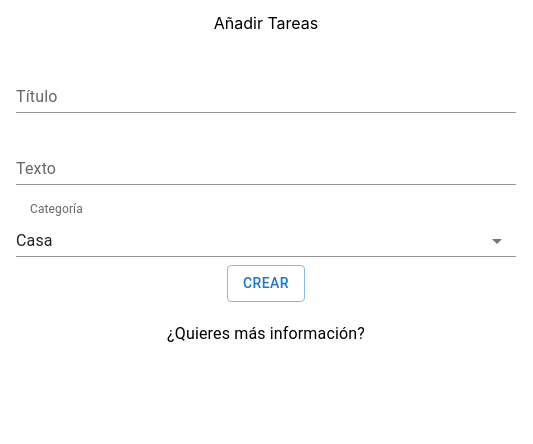
Test: Prueba sobre la app completa › si la tarea se genera correctamente
In the field labelled "Título": (266, 97) [16, 81, 516, 113], type "Perro"
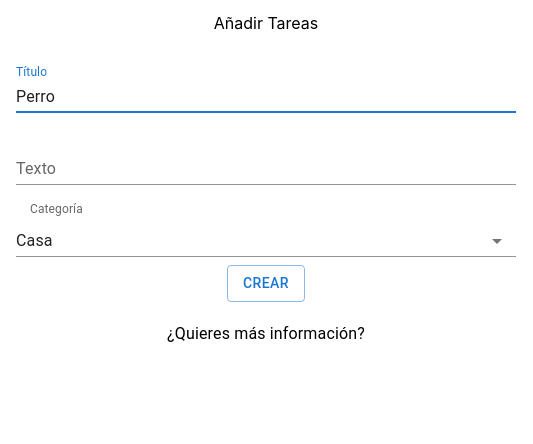
In the field labelled "Texto": (266, 169) [16, 153, 516, 185], type "Sacar al perro por la tarde"
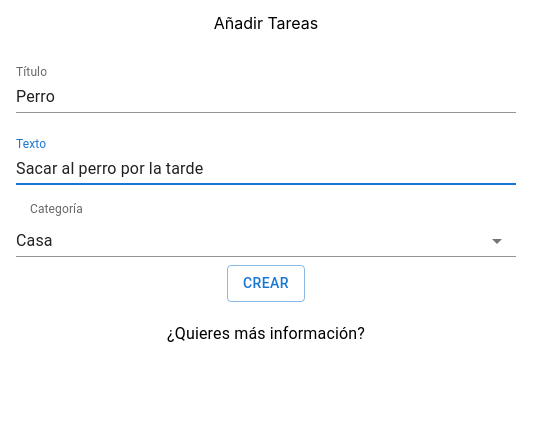
Select "Casa" in the dropdown labelled "Categoría": (266, 241) [16, 225, 516, 257]
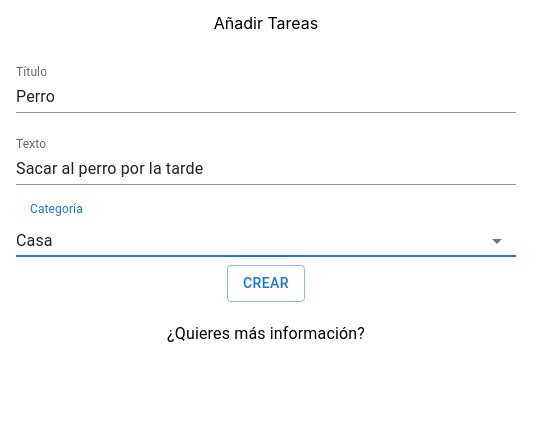
Click the button "Crear": click(266, 283) [227, 265, 305, 302]
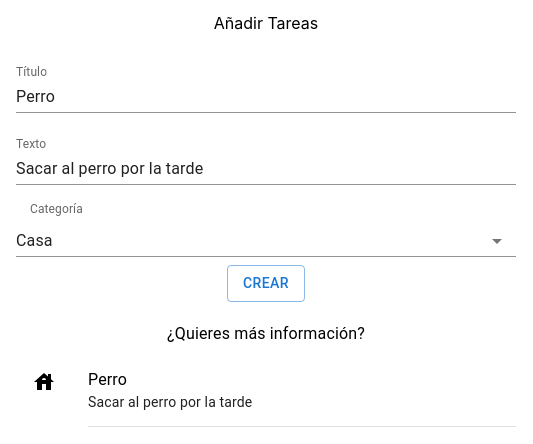
Expected: the text "Perro" is shown, [88, 370, 127, 388]
